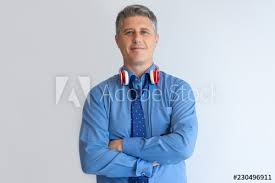white_male: (116, 15, 157, 70)
